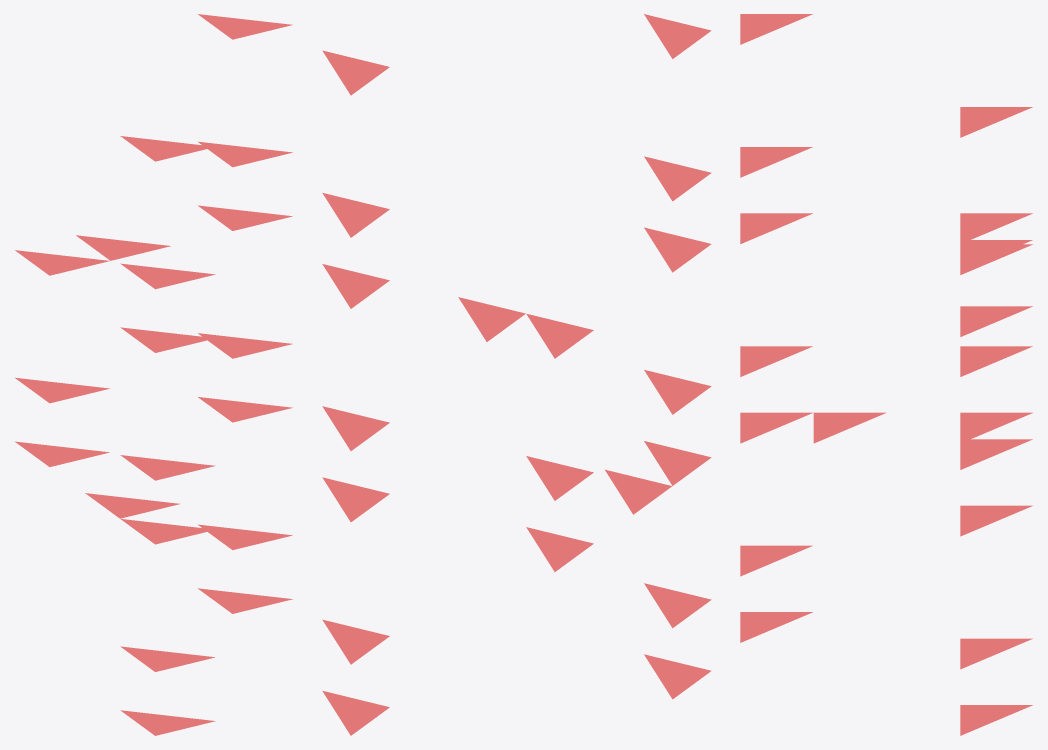
Rendered from bell-pair.dae.
3 views of the same model, side by side, from view 1: azimuth 30°, elevation 25°; view 2: azimuth 150°, elevation 25°; view 3: azimuth 270°, elevation 25° (orthographic). The views are drawn at different scales.
Parts seen in each view (by area): view 1: zxo (×6), zxz (×5), zxx (×4), zox, xzz, xzoh, oxz; view 2: zxo (×6), zxz (×5), zxx (×4), xzz, zox, oxz, xzoh; view 3: zxo (×6), zxz (×5), zxx (×4), zox, xzoh, xzz.
Part boxes in pixels (x1,y1,x2,y2): zxo (×6): (15,141,292,550); zxz (×5): (15,205,292,613); zxx (×4): (15,14,292,544); zox: (85,493,179,518); xzz: (120,710,215,735); xzoh: (120,646,214,671); oxz: (76,235,170,260); zxo (×6): (322,156,711,664); zxz (×5): (322,227,711,735); zxx (×4): (322,14,711,571); xzz: (644,654,711,699); zox: (605,469,672,514); oxz: (458,297,525,341); xzoh: (644,583,711,628); zxo (×6): (740,147,1032,669); zxz (×5): (740,213,1032,735); zxx (×4): (740,14,1032,443); zox: (813,412,886,443); xzoh: (740,545,812,576); xzz: (740,612,812,642).
Size of the model in its own units: 4 by 4 by 9.
